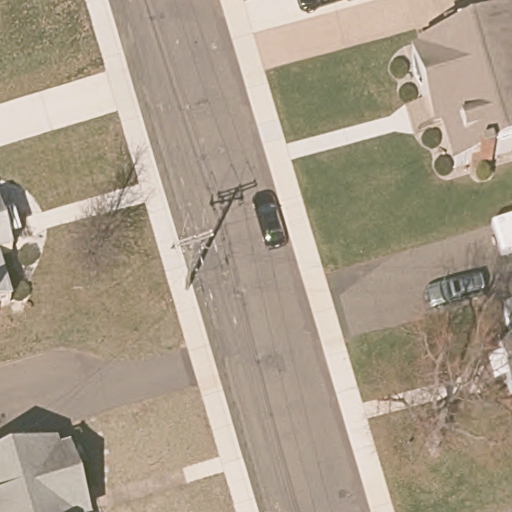DT: (169, 227, 218, 291)
